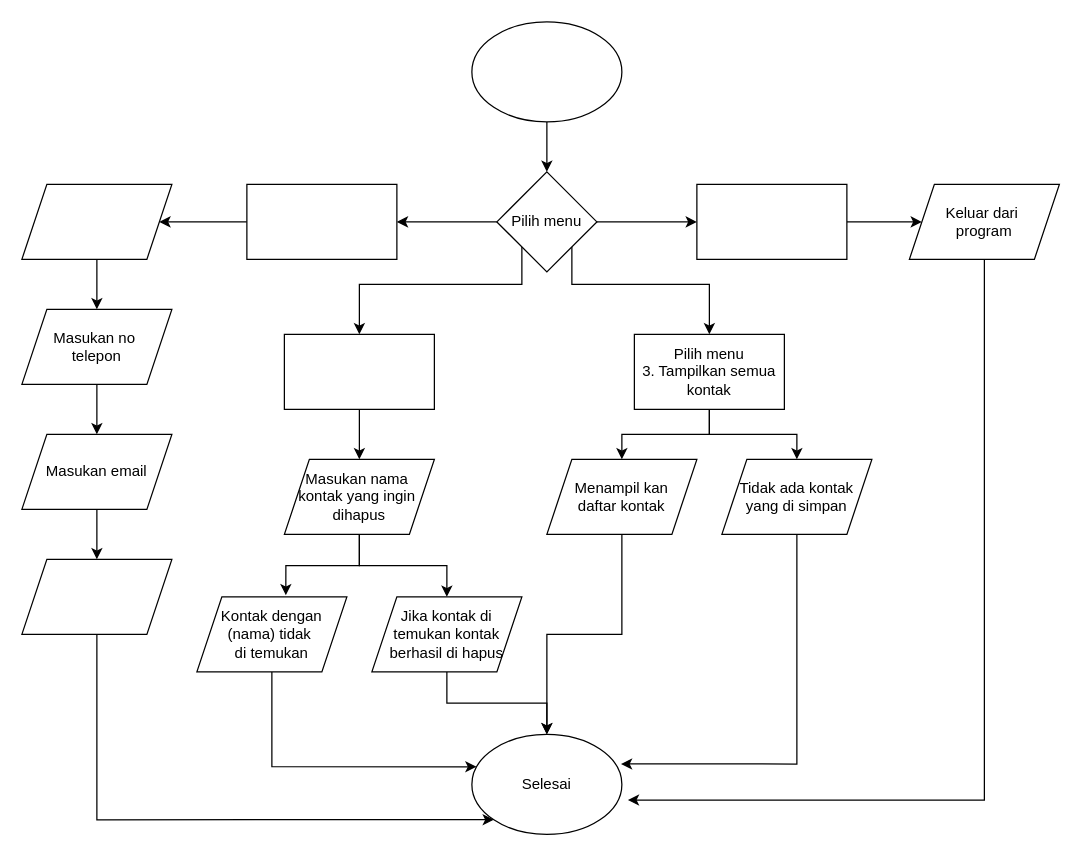
Some shapes in this 1081 by 856 pixel diagram are drawn without their labels. Each missing label, with the centre of its shape:
"Kontak berhasil di tambahkan" belongs at (x=96, y=596).
"Masukan nama" belongs at (x=96, y=221).
"Pilih menu 1. Tambah kontak" belongs at (x=321, y=221).
"Pilih menu 2. Hapus kontak" belongs at (x=358, y=371).
"Pilih menu 4. Keluar" belongs at (x=771, y=221).
"Start" belongs at (x=546, y=71).
